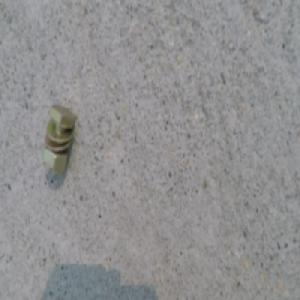BoltNutSet: (45, 102, 78, 174)
